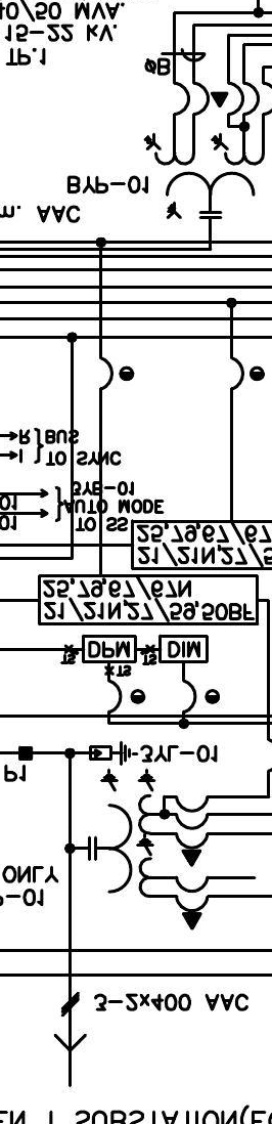115_cvt_1p: (88, 767, 210, 932)
115_cvt_3p: (143, 132, 266, 220)
115_la: (89, 740, 139, 767)
DIM: (159, 634, 209, 664)
DPM: (82, 634, 138, 664)
